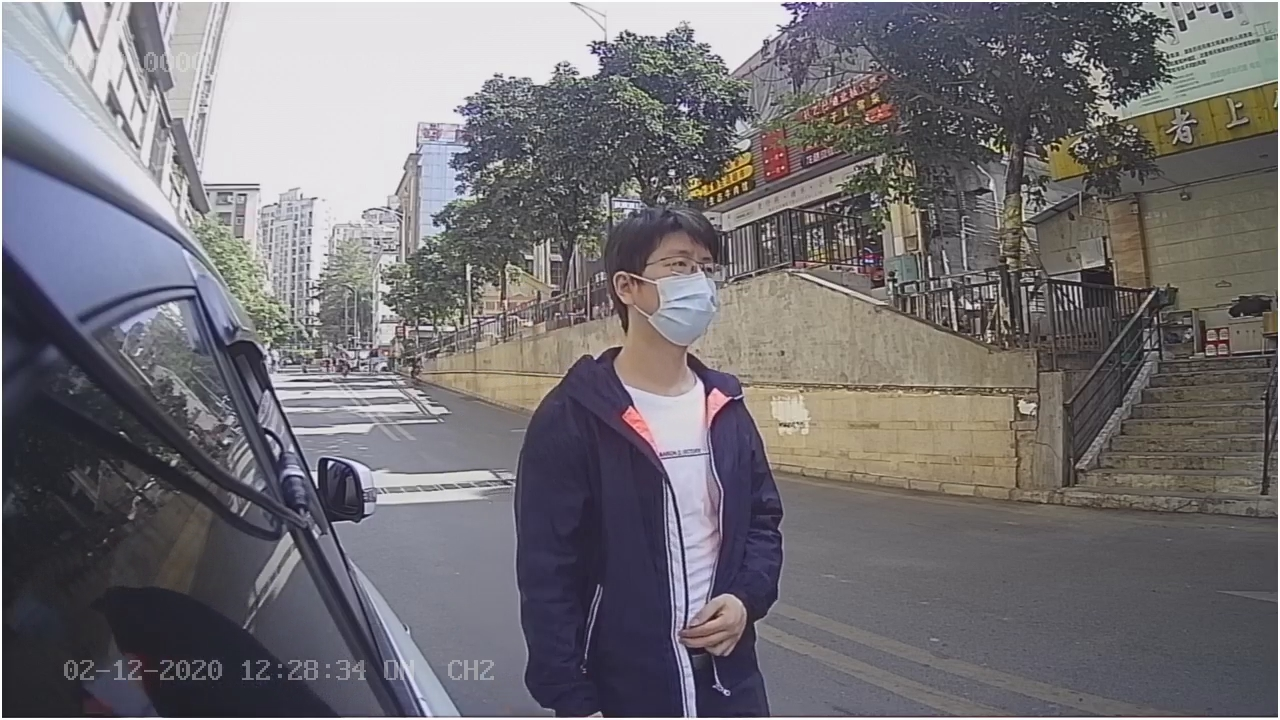person: (505, 194, 803, 662)
